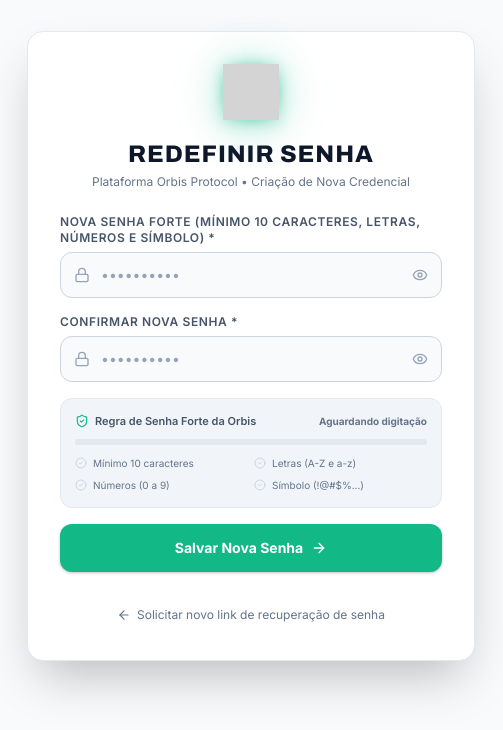
Test: Fluxo de Recuperação e Redefinição de Senha - Orbis Protocol › Cenário 3: Submissão bem-sucedida deve funcionar também via path param (/redefinir-senha/:token) com token codificado
The width and height of the screenshot is (503, 730).
In the 1st password field with placeholder "••••••••••": [251, 275] box [60,252,442,298], type "OrbisProtocol@2026"
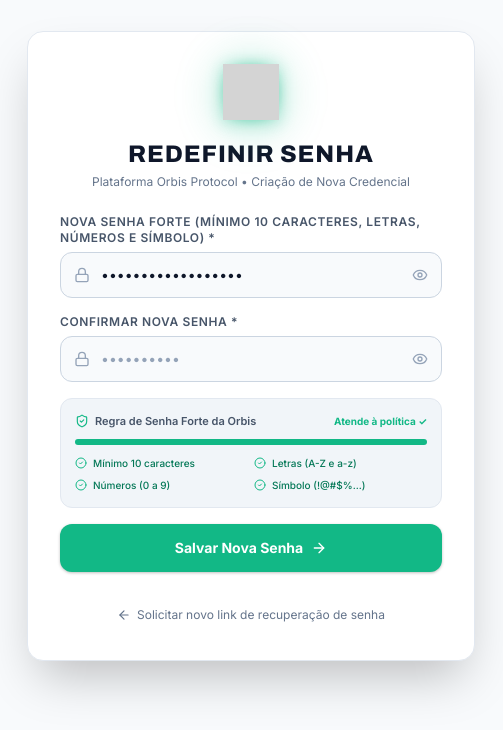
In the password field with placeholder "••••••••••": [251, 359] box [60,336,442,382], type "OrbisProtocol@2026"
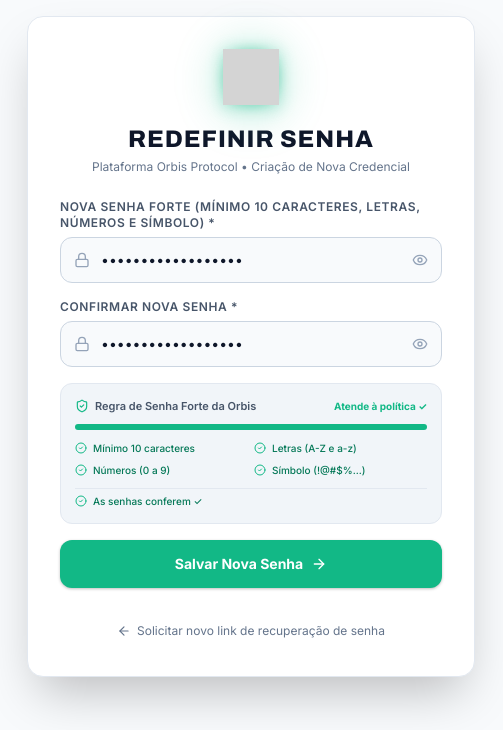
Click the button "Salvar Nova Senha": [251, 564] box [60,540,442,588]
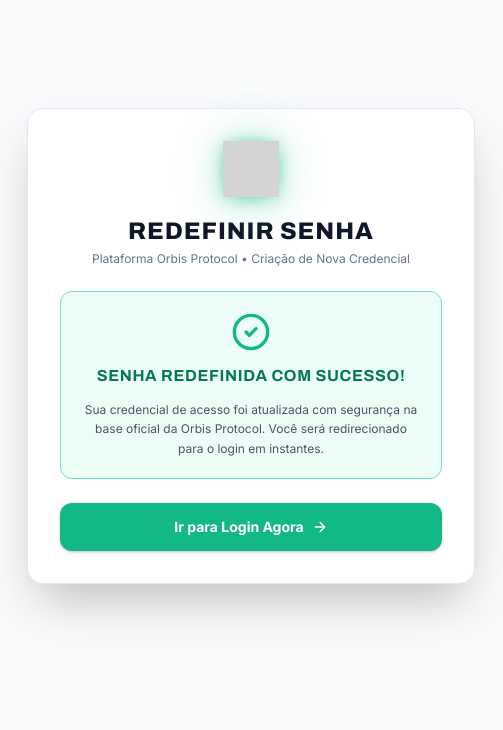
Check: the heading "Senha Redefinida com Sucesso!" is shown, box [81,364,421,388]
